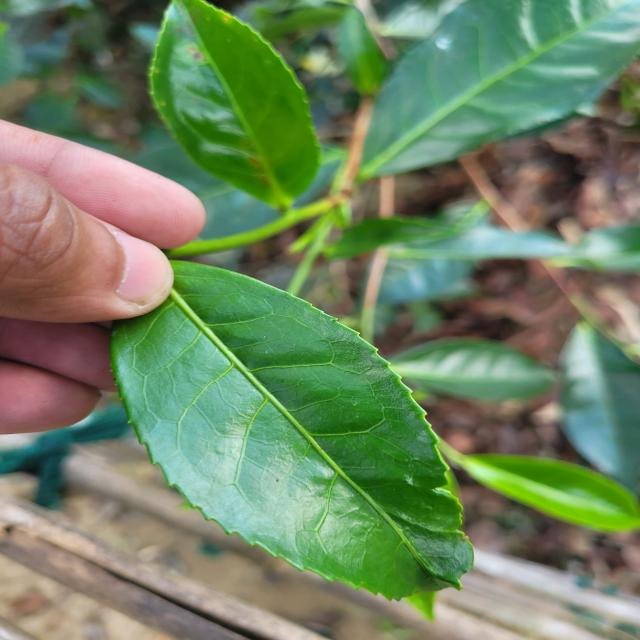Category D 7+ days, Not for Tea: (85, 215, 489, 628)
